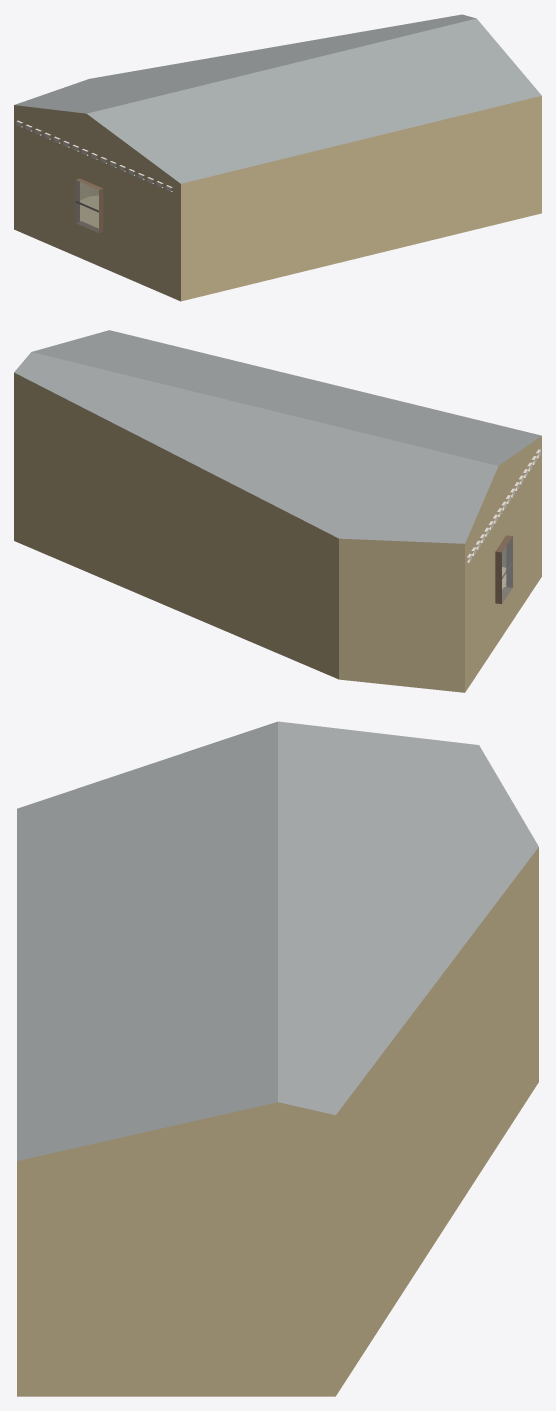
The model's file is W-39-1.wooden_church_edge_annex.glb.
The picture shows the model from 3 angles, top to bottom: view 1: azimuth 30°, elevation 25°; view 2: azimuth 150°, elevation 25°; view 3: azimuth 270°, elevation 25°; orthographic projection. The views are drawn at different scales.
Visible parts, largest first — view 1: W-39-1.wooden_church_edge_annex; view 2: W-39-1.wooden_church_edge_annex; view 3: W-39-1.wooden_church_edge_annex.
Part boxes in pixels (x1,y1,x2,y2): W-39-1.wooden_church_edge_annex: (14, 14, 541, 301); W-39-1.wooden_church_edge_annex: (14, 330, 541, 692); W-39-1.wooden_church_edge_annex: (17, 721, 538, 1396).
Bounding box in the file's own units: 12.49 × 4.25 × 6.83.
